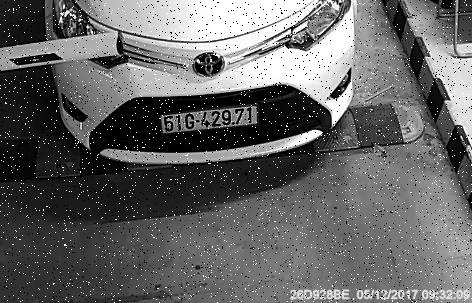License-plate: (157, 104, 267, 136)
